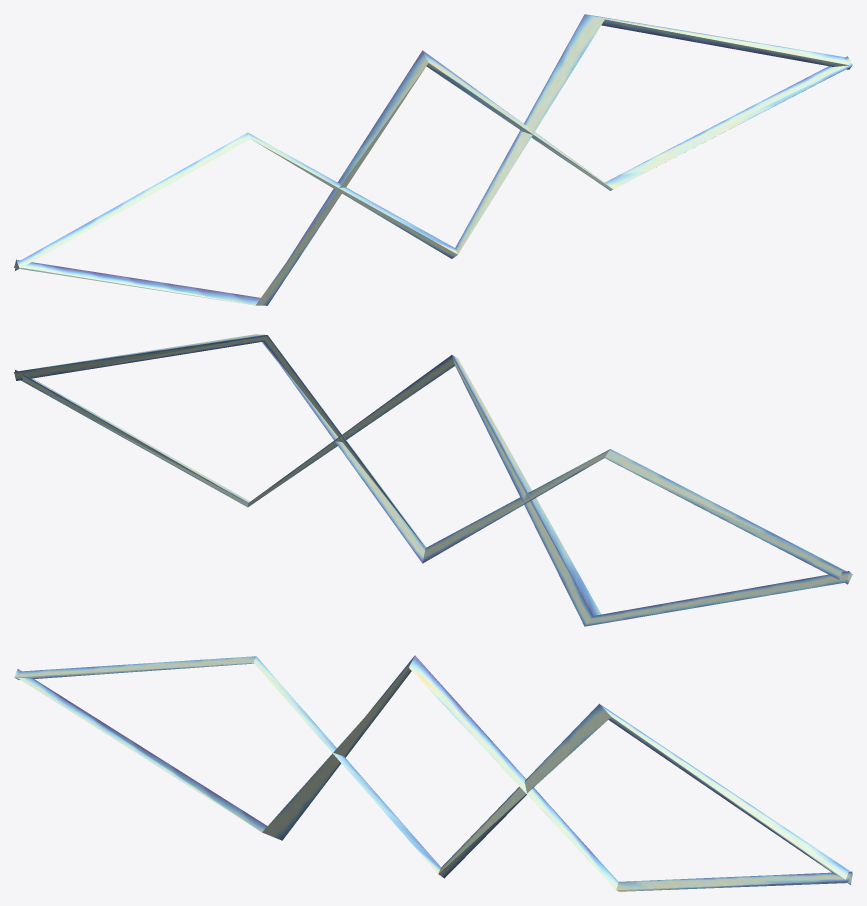
Rendered from bolt3.obj.
The picture shows the model from 3 angles, top to bottom: view 1: azimuth 30°, elevation 25°; view 2: azimuth 150°, elevation 25°; view 3: azimuth 330°, elevation 25°; orthographic projection.
Bounding box in the file's own units: 32.6 × 8.55 × 1.17.
1 material, 1 textured.
